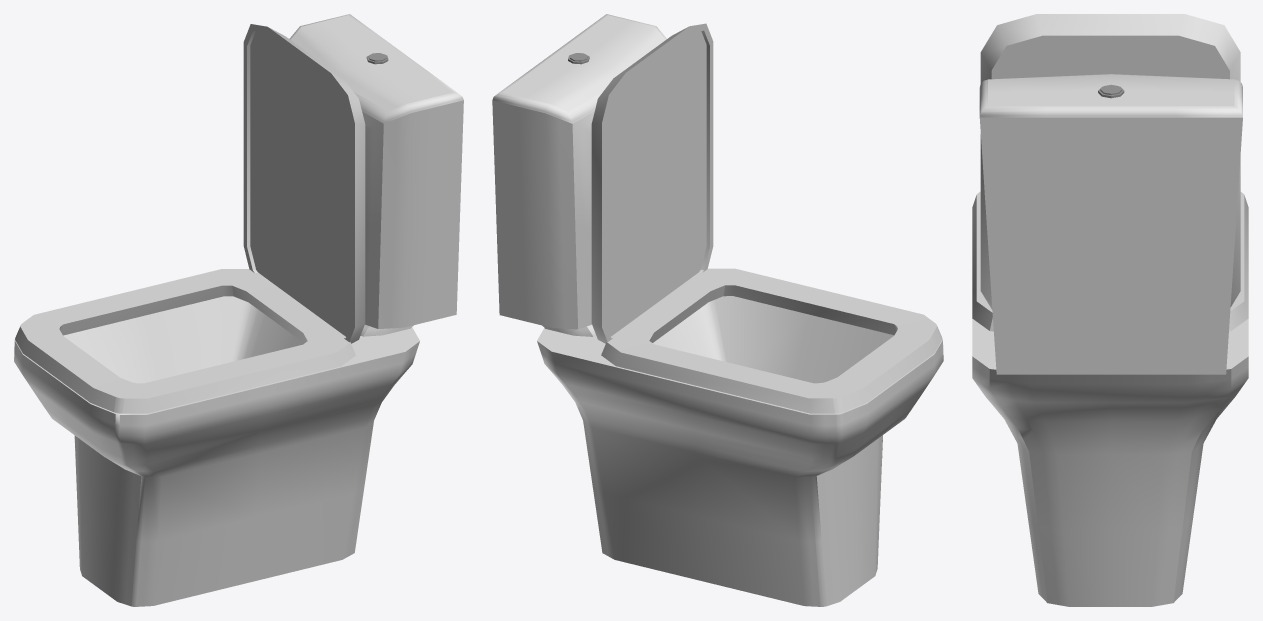
Rendered from Toilet.fbx.
3 views of the same model, side by side, from view 1: azimuth 30°, elevation 25°; view 2: azimuth 150°, elevation 25°; view 3: azimuth 270°, elevation 25° (orthographic). The views are drawn at different scales.
Parts seen in each view (by area): view 1: Toilet; view 2: Toilet; view 3: Toilet.
Part boxes in pixels (x1,y1,x2,y2): Toilet: (14, 14, 463, 606); Toilet: (492, 14, 943, 606); Toilet: (972, 14, 1248, 606).
Size of the model in its own units: 60 by 80 by 35.
